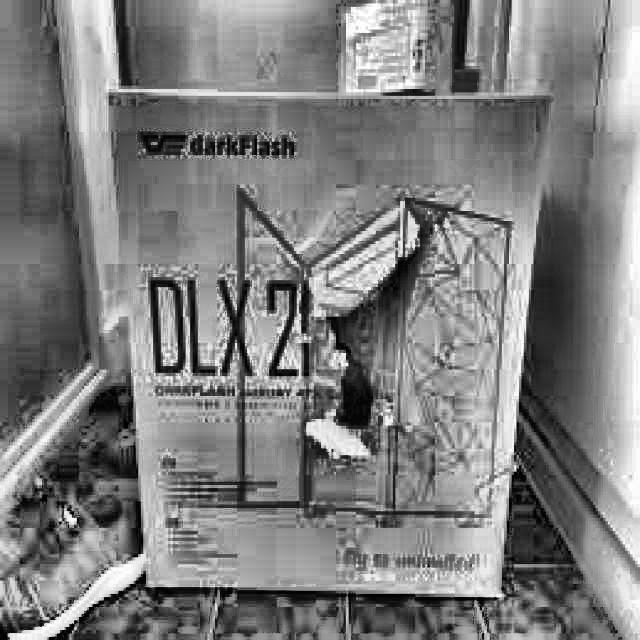box: (96, 65, 554, 616)
hole: (303, 262, 405, 458)
